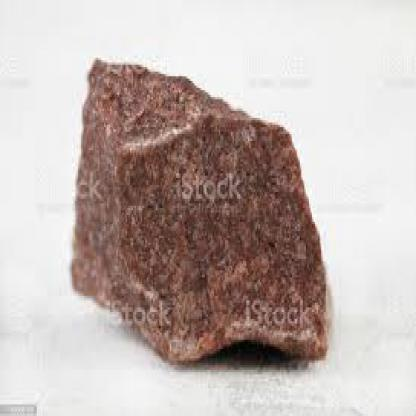Metamorphic_Quartize: (60, 35, 335, 363)
